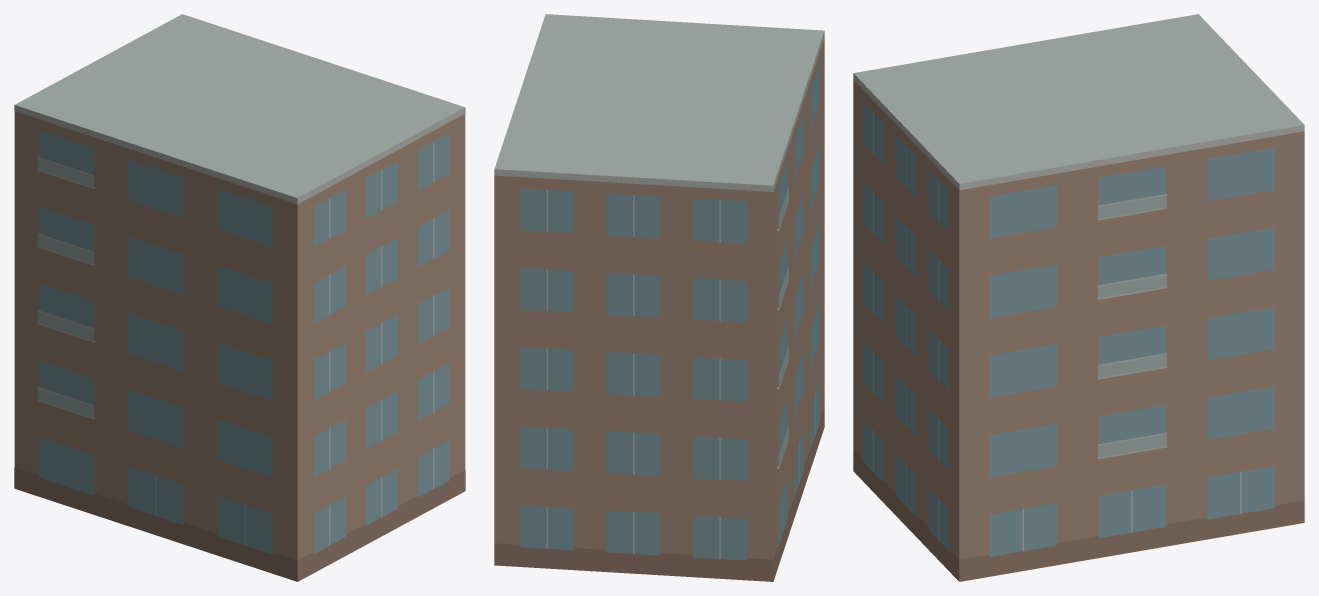
File: residential-e18258f3-7fd3-46fa-ba5c-84a7dbb621c0.glb
3 renders of one model, left to right at view 1: azimuth 30°, elevation 25°; view 2: azimuth 150°, elevation 25°; view 3: azimuth 270°, elevation 25°, orthographic. The views are drawn at different scales.
Parts seen in each view (by area): view 1: residential-e18258f3-7fd3-46fa-ba5c-84a7dbb621c0.tmp; view 2: residential-e18258f3-7fd3-46fa-ba5c-84a7dbb621c0.tmp; view 3: residential-e18258f3-7fd3-46fa-ba5c-84a7dbb621c0.tmp.
Part boxes in pixels (bbox=[...]): residential-e18258f3-7fd3-46fa-ba5c-84a7dbb621c0.tmp: bbox=[14, 14, 465, 581]; residential-e18258f3-7fd3-46fa-ba5c-84a7dbb621c0.tmp: bbox=[494, 14, 824, 581]; residential-e18258f3-7fd3-46fa-ba5c-84a7dbb621c0.tmp: bbox=[853, 14, 1304, 581].
Size of the model in its own units: 13.98 by 15.25 by 15.68.
